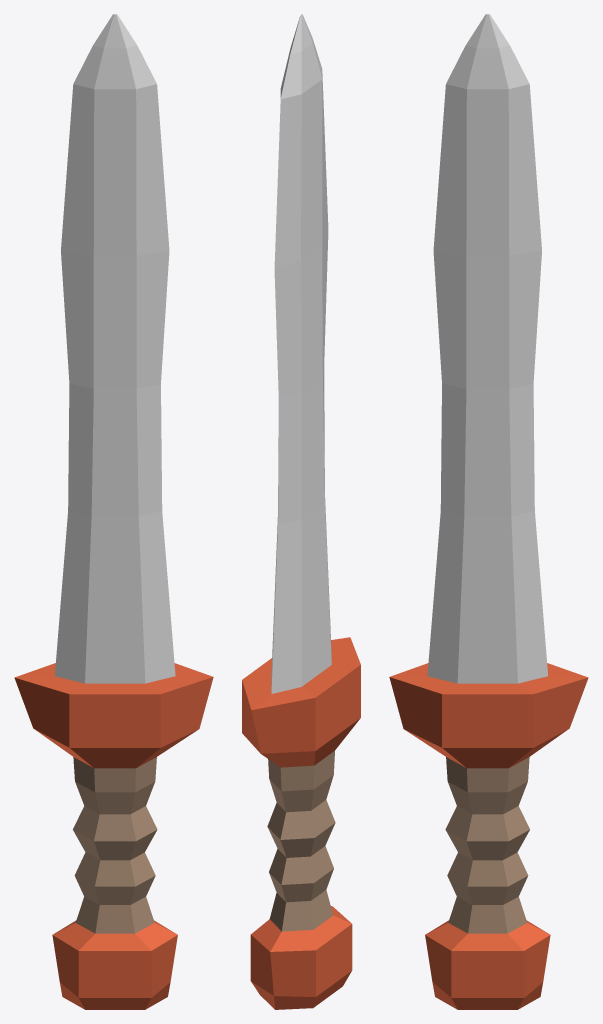
File: Gladius.fbx
3 renders of one model, left to right at view 1: azimuth 90°, elevation 25°; view 2: azimuth 150°, elevation 25°; view 3: azimuth 270°, elevation 25°, orthographic.
Parts seen in each view (by area): view 1: Cylinder; view 2: Cylinder; view 3: Cylinder.
Boxes of the visible parts, left/top/right/bottom form: Cylinder: left=14, top=14, right=213, bottom=1009; Cylinder: left=242, top=14, right=360, bottom=1009; Cylinder: left=389, top=14, right=588, bottom=1009.
Size of the model in its own units: 35.27 by 447 by 82.24.
